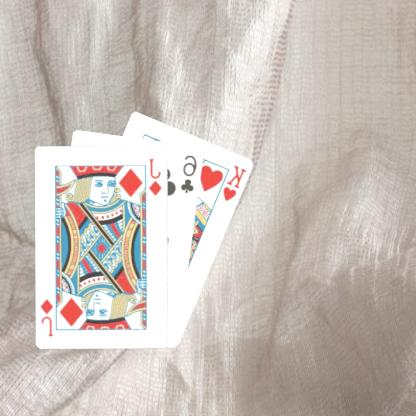6C: (180, 152, 200, 194)
JD: (148, 155, 165, 197), (40, 296, 57, 337)
KH: (222, 162, 250, 203)
